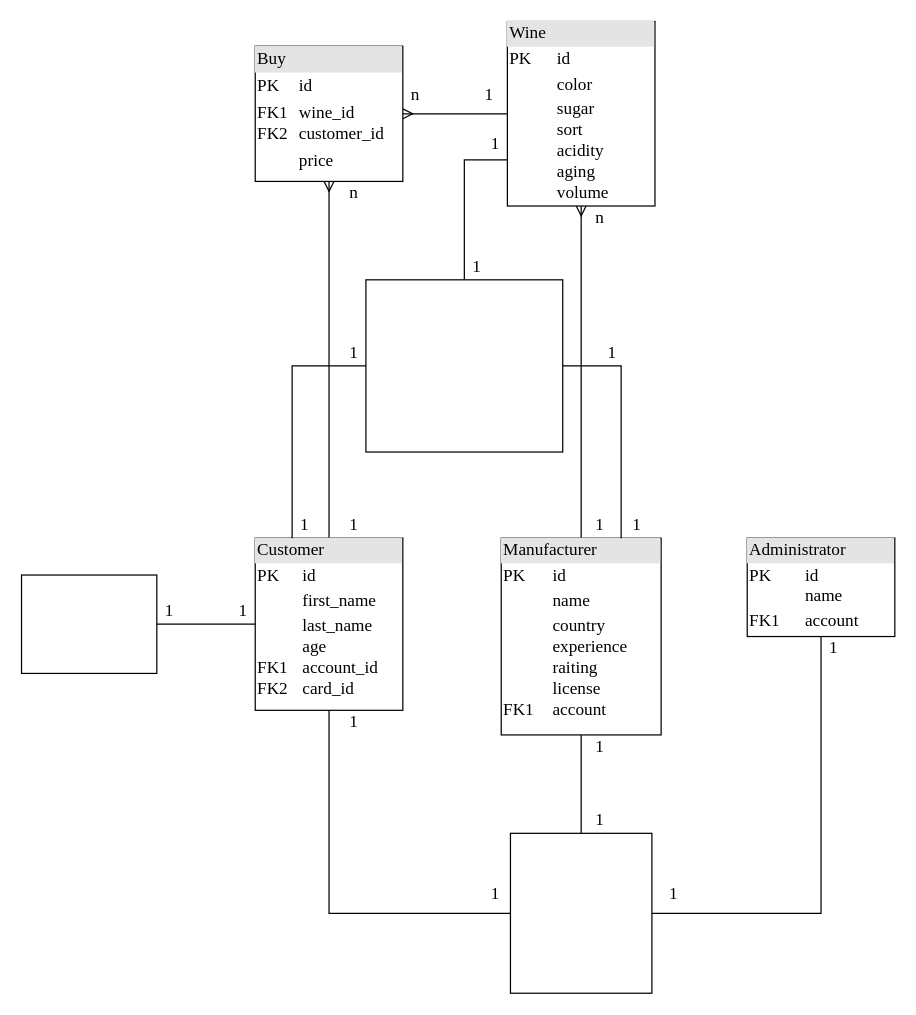
The diagram is 916 pixels wide and 1015 high, and some of its shapes have lost their labels. The centre of each missing label's shape, as x and y in pixels:
"Account PK id role login password phone email" goes at pixel 580 912.
"Bonus_card PK id FK1 customer_id bonuses" goes at pixel 88 623.
"Sale PK id FK1 wine_id FK2 FK3 manufacturer_id customer_id price profit" goes at pixel 464 365.
